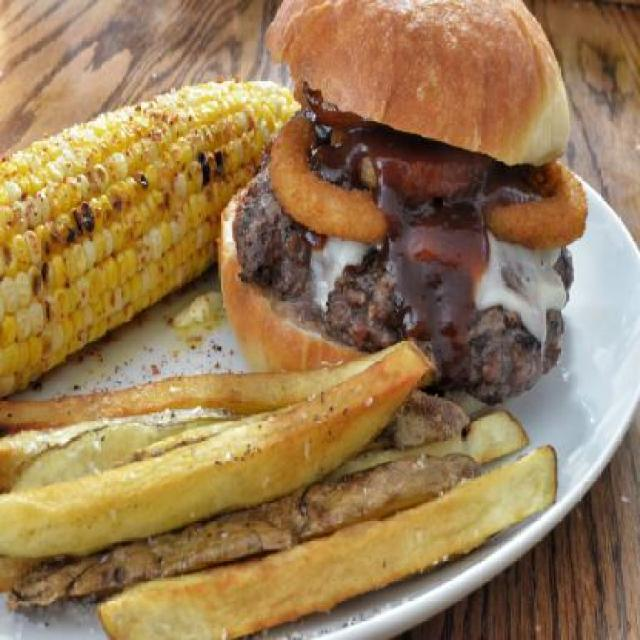Hamburger: (217, 0, 588, 417)
